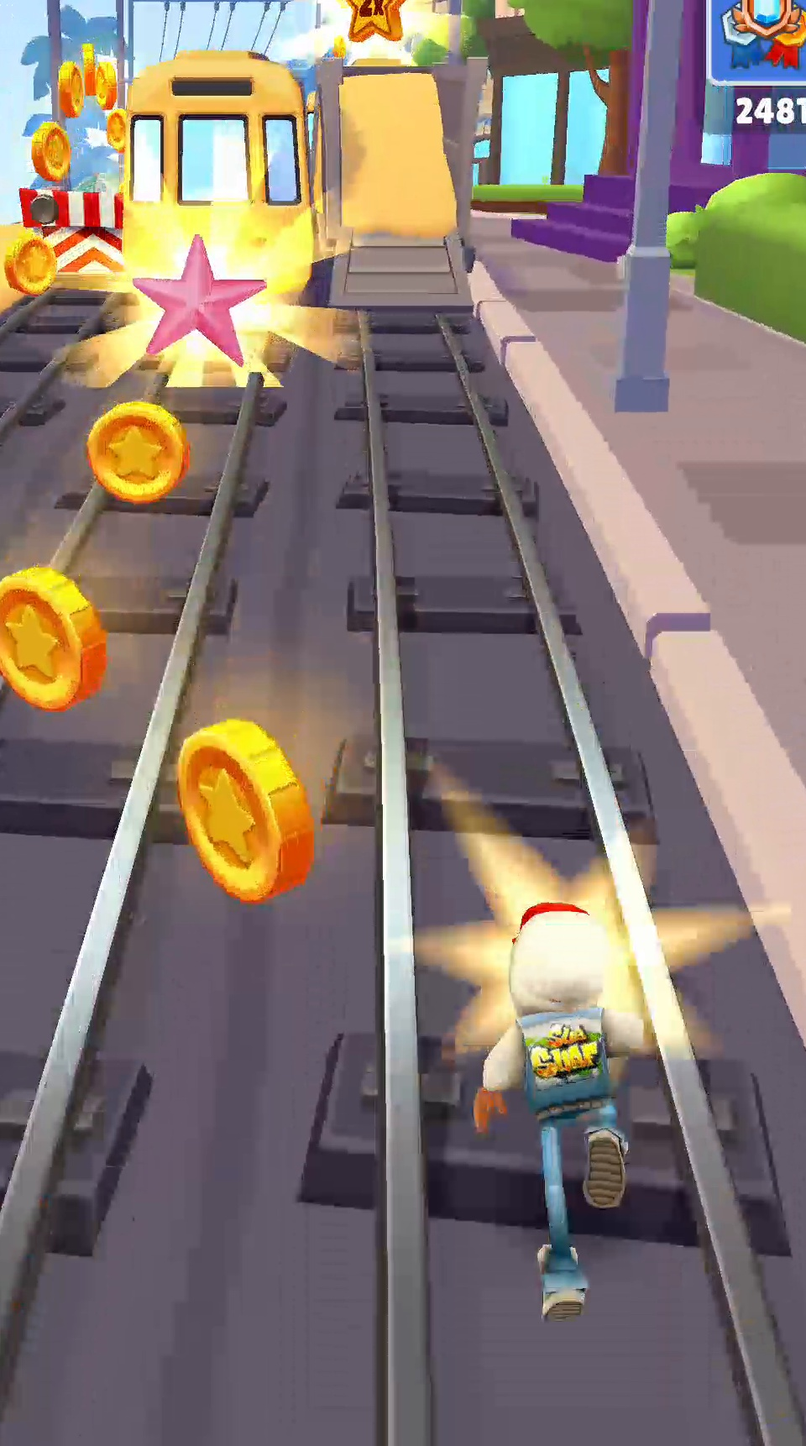climber: (315, 60, 480, 309)
roll blocker: (19, 185, 123, 275)
train: (122, 52, 329, 333)
